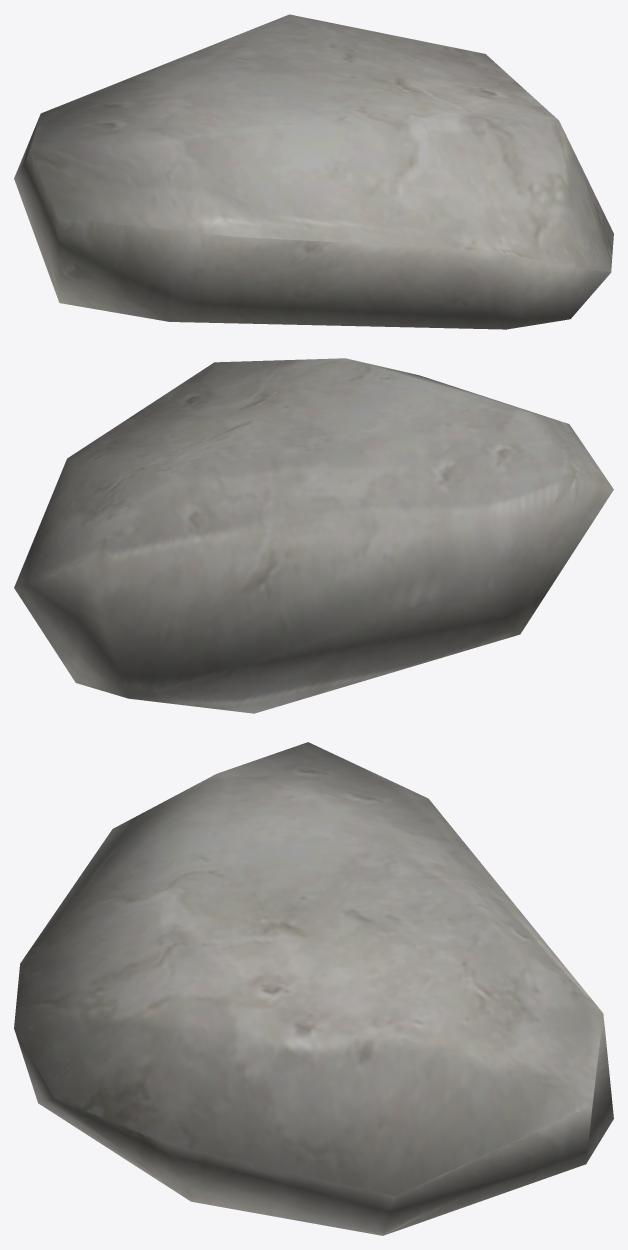
The model's file is Rock_10_high.glb.
The picture shows the model from 3 angles, top to bottom: view 1: azimuth 30°, elevation 25°; view 2: azimuth 150°, elevation 25°; view 3: azimuth 270°, elevation 25°; orthographic projection. The views are drawn at different scales.
Visible parts, largest first — view 1: rock_10; view 2: rock_10; view 3: rock_10.
Boxes of the visible parts, <box> form: rock_10: <box>14,14,613,329</box>; rock_10: <box>14,358,613,713</box>; rock_10: <box>14,742,613,1235</box>.
Size of the model in its own units: 0.6534 by 0.3109 by 0.6164.
Materials: 1 (1 with a texture image).
